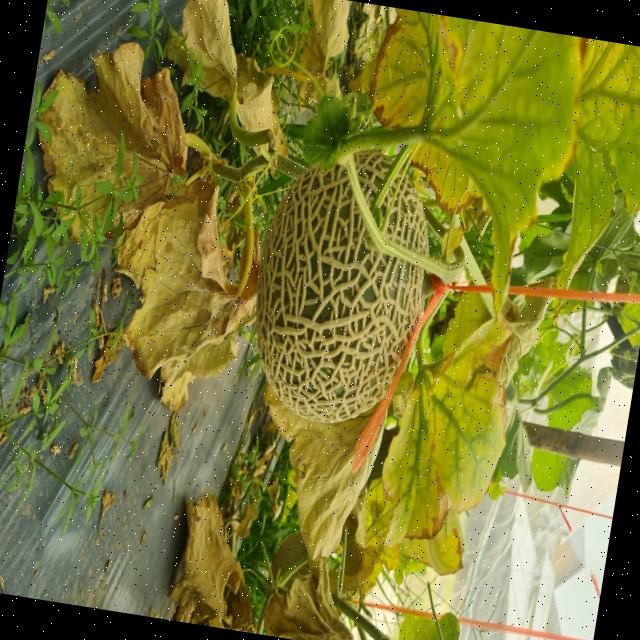melon: (255, 166, 423, 423), (385, 176, 427, 253)
